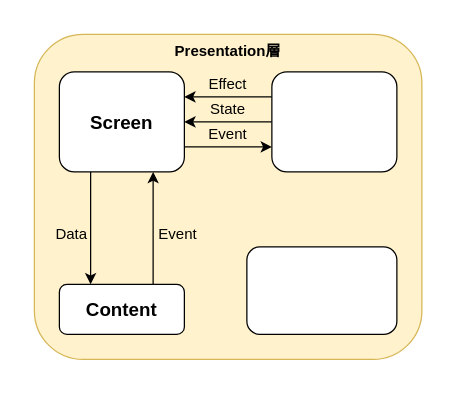
Some shapes in this 455 by 393 pixel diagram are drawn without their labels. Here are the shapes that lost their labels. From the top down, the centre of each, then its label:
(334,121): ViewModel
(321,290): Contract ・State ・Event ・Effect
